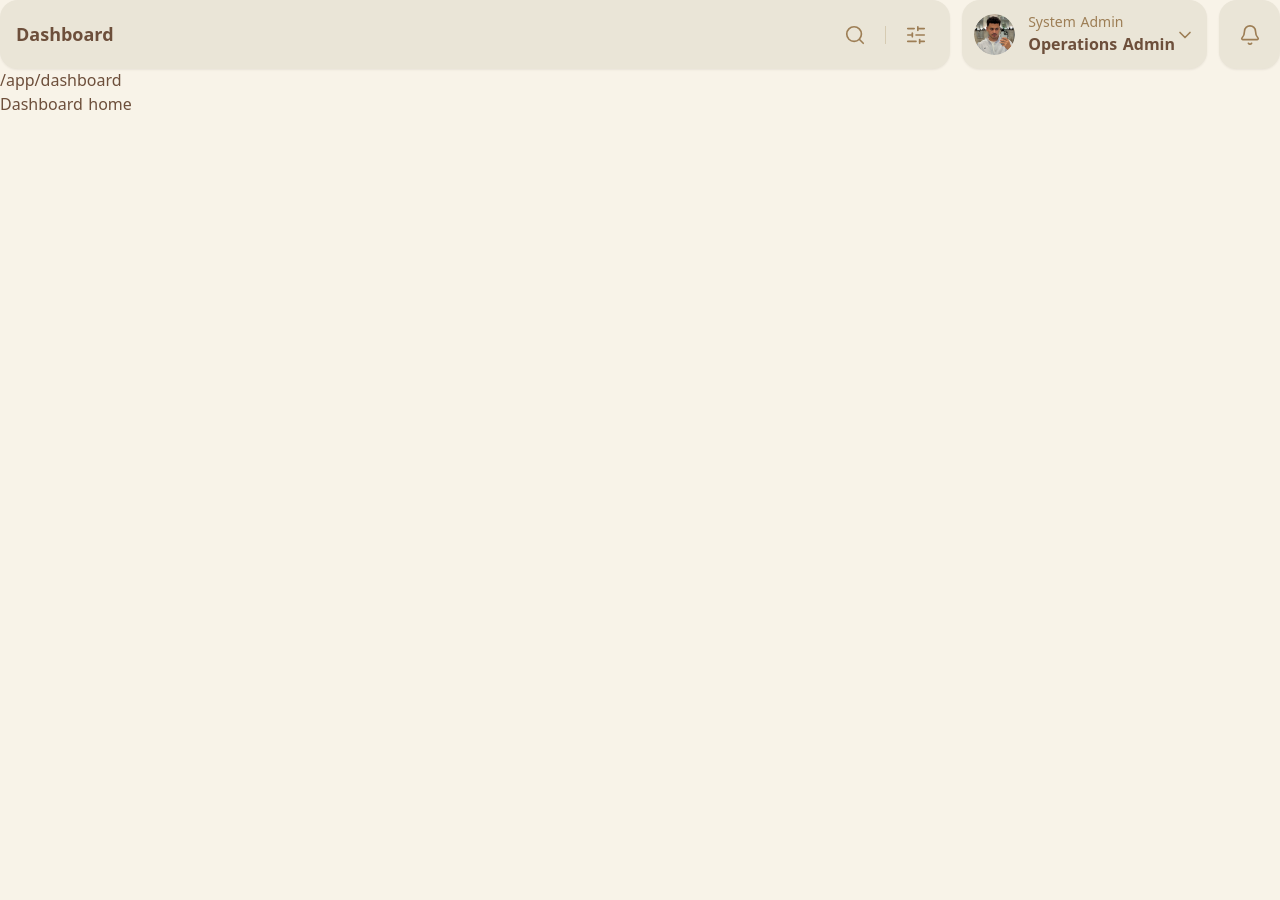
Test case: DashboardTopbar notifications bar › opens filter modal and handles apply/reset/cancel actions
This screenshot has width=1280, height=900.
Click the button named "الإعدادات".
click(916, 34)  # box [898,16,934,52]
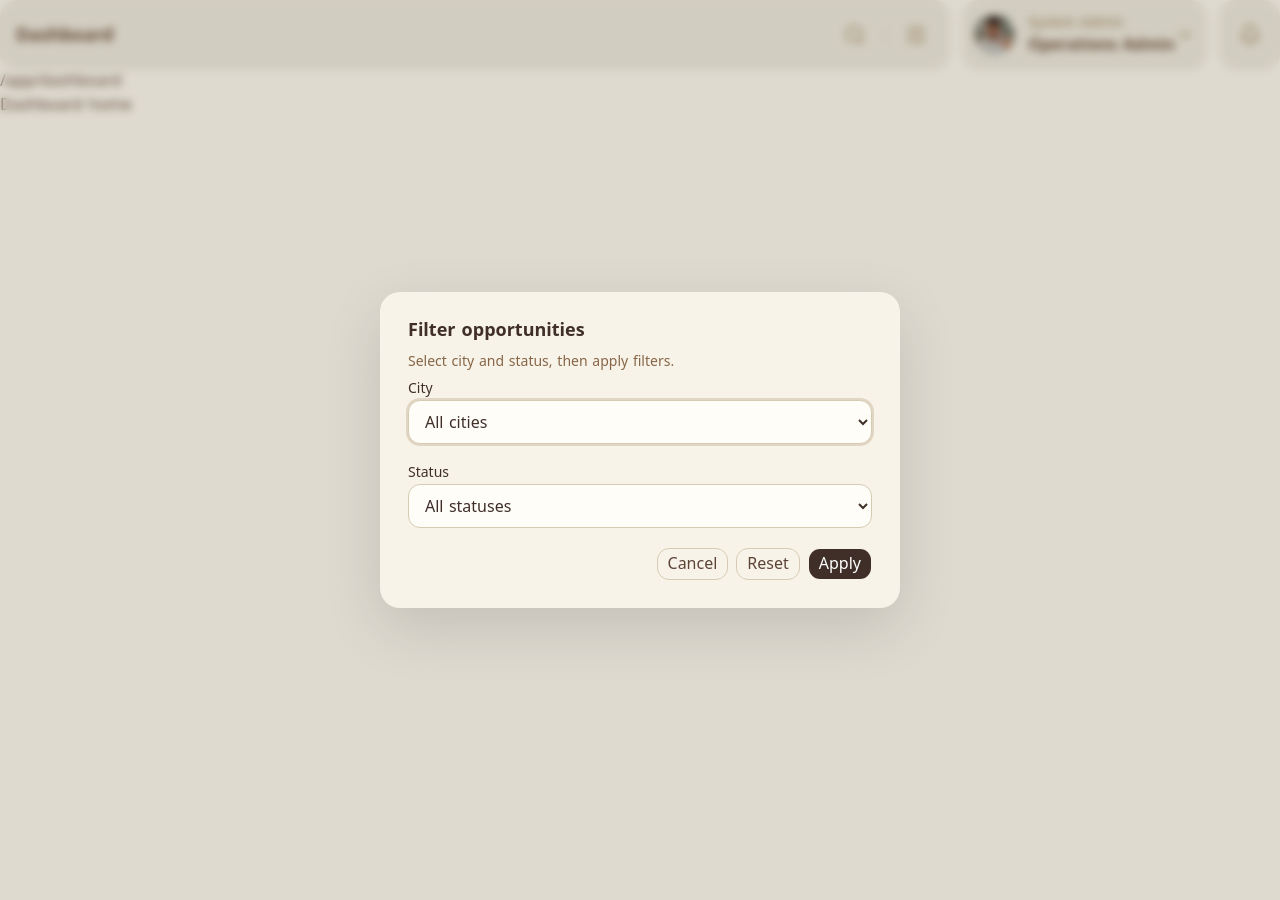
Expected: the heading "Filter opportunities" is shown, [408,313,585,347]
Select "Riyadh" in the dropdown labelled "City" at (640, 422), box [408,400,872,444]
Select "Published" in the dropdown labelled "Status" at (640, 506), box [408,484,872,528]
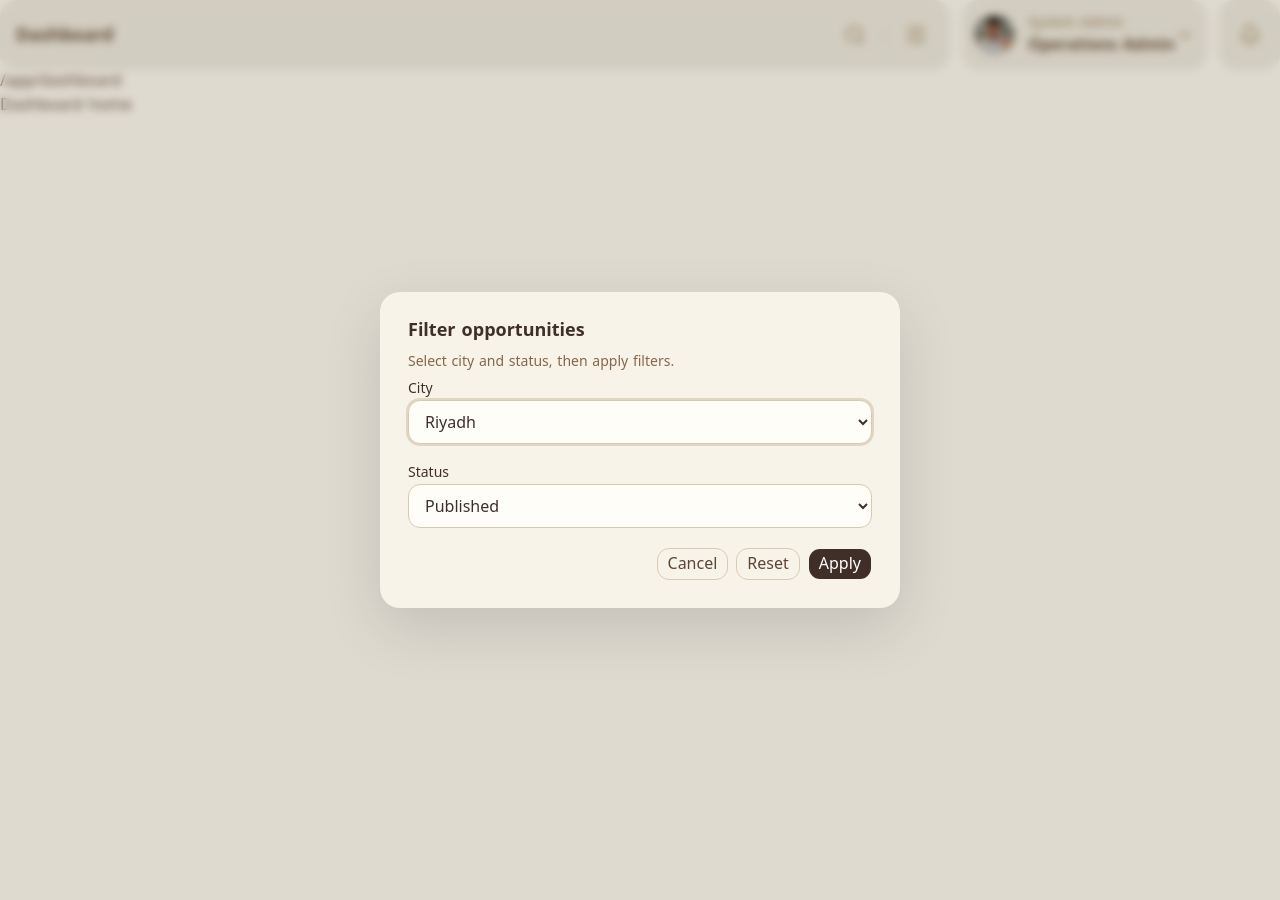
Click the button "Apply".
click(840, 564)  # box [808,548,872,580]
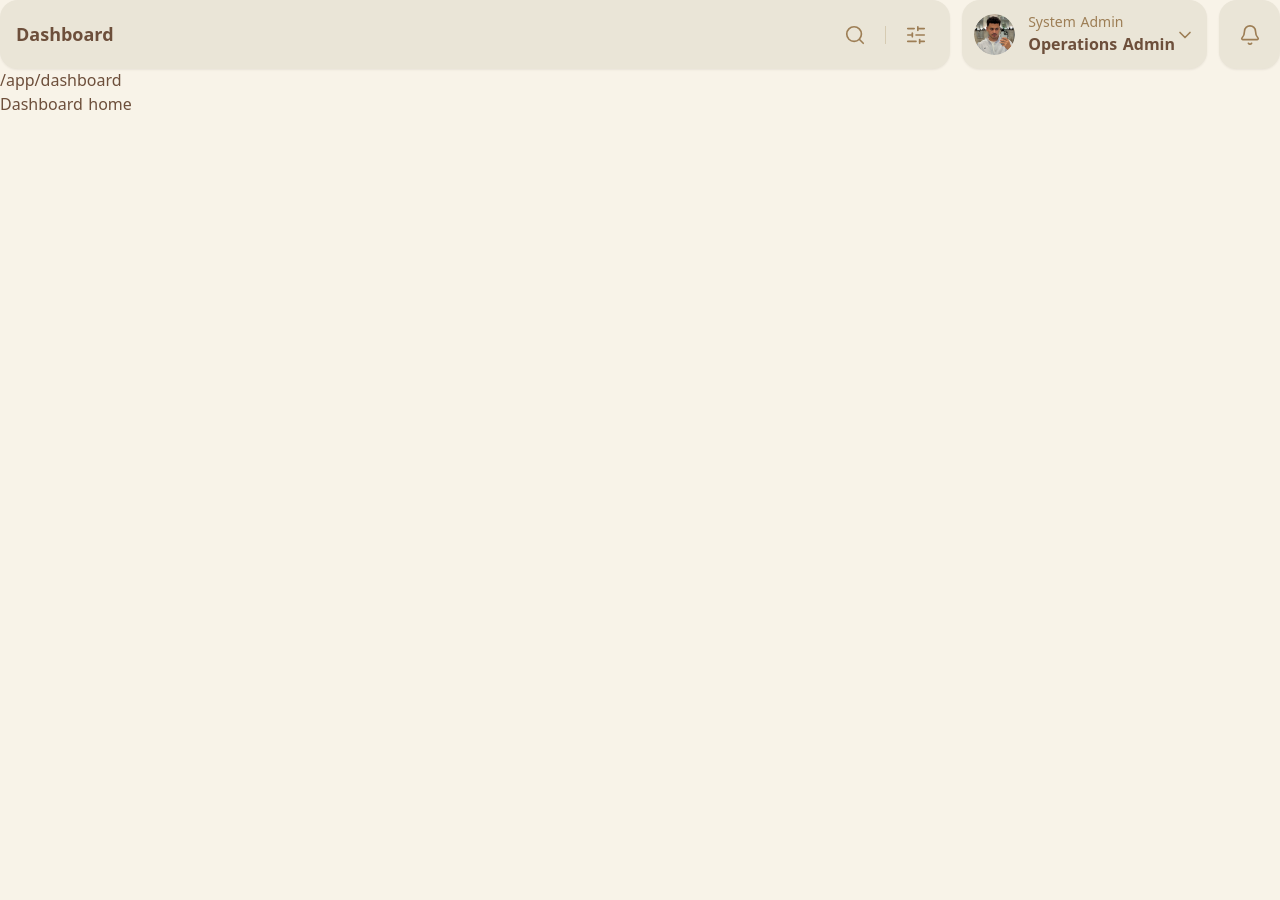
Expected: the heading "Filter opportunities" is gone
Click the button named "الإعدادات".
click(916, 34)  # box [898,16,934,52]
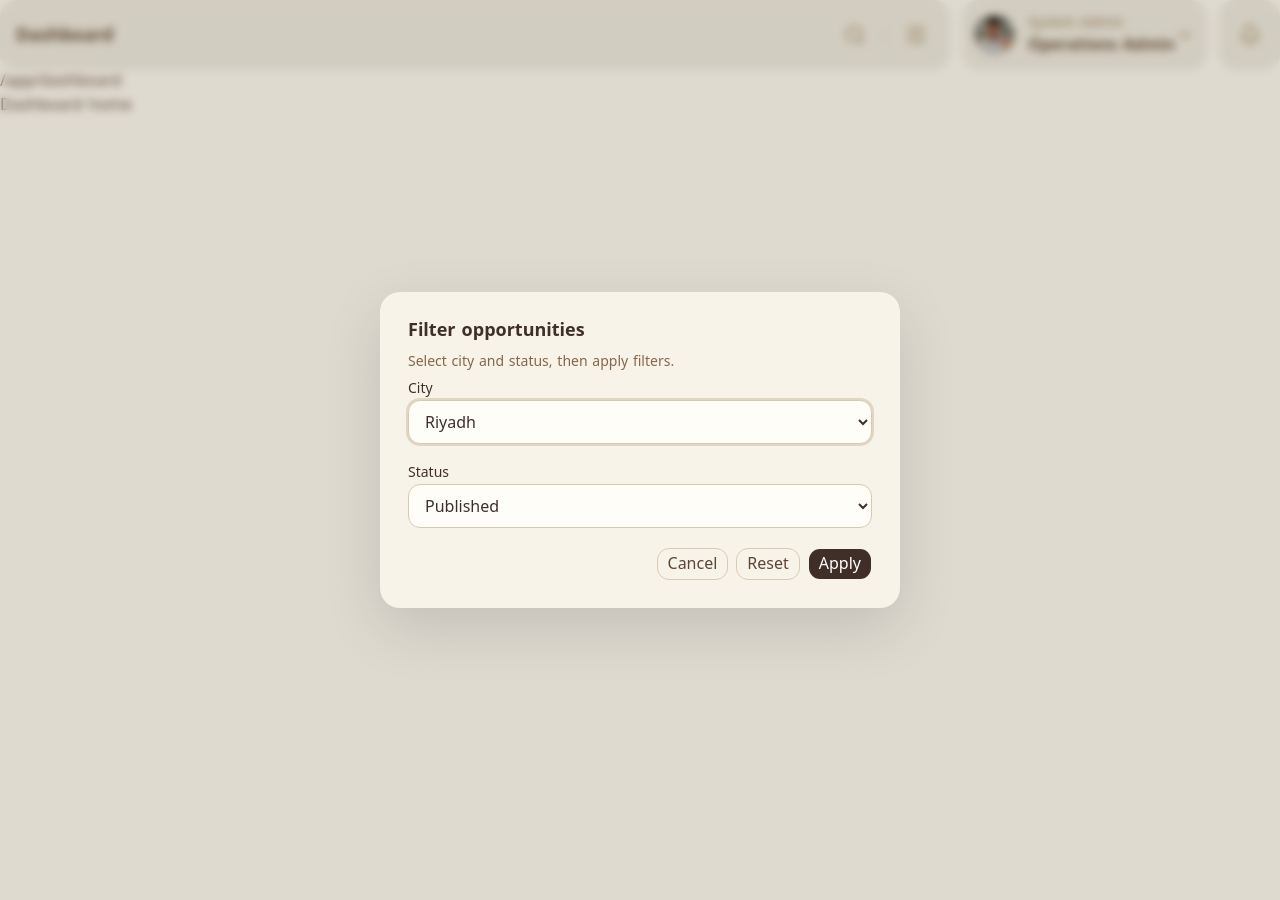
Expected: the dropdown labelled "City" shows "Riyadh", [408,400,872,444]
Expected: the dropdown labelled "Status" shows "Published", [408,484,872,528]
Click the button "Reset".
click(768, 564)  # box [736,548,800,580]
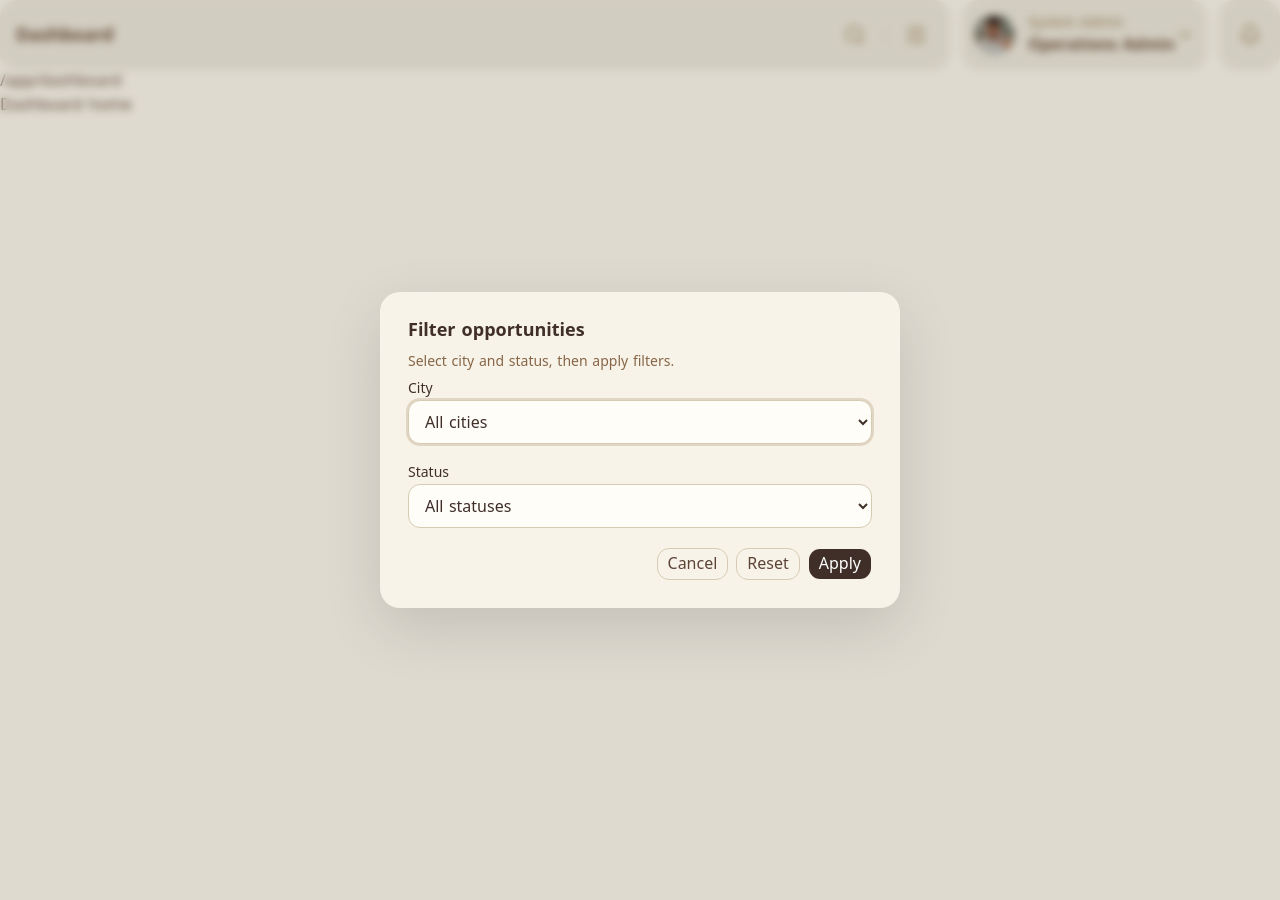
Expected: the dropdown labelled "City" shows "All cities", [408,400,872,444]
Expected: the dropdown labelled "Status" shows "All statuses", [408,484,872,528]
Click the button "Cancel".
click(692, 564)  # box [656,548,728,580]
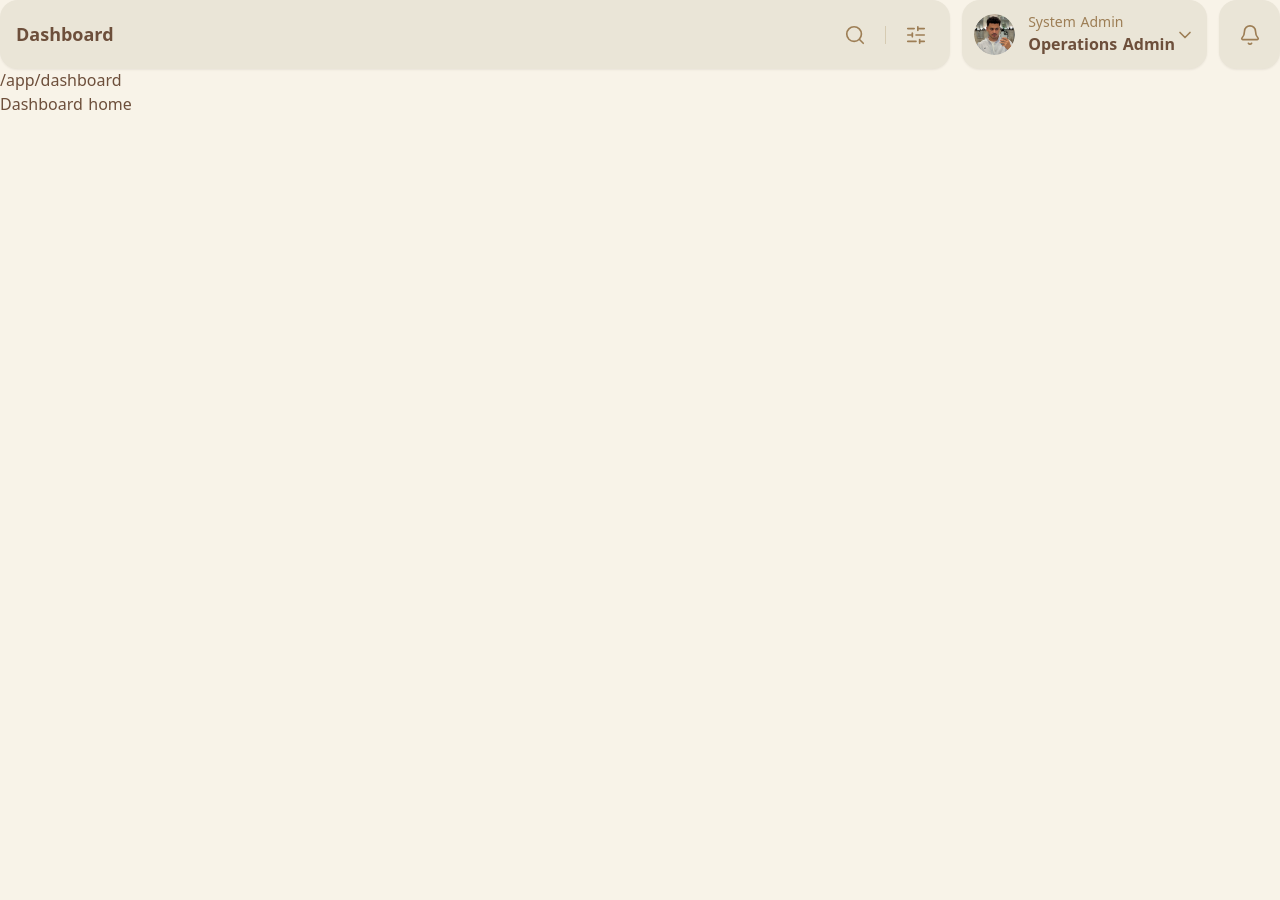
Expected: the heading "Filter opportunities" is gone
